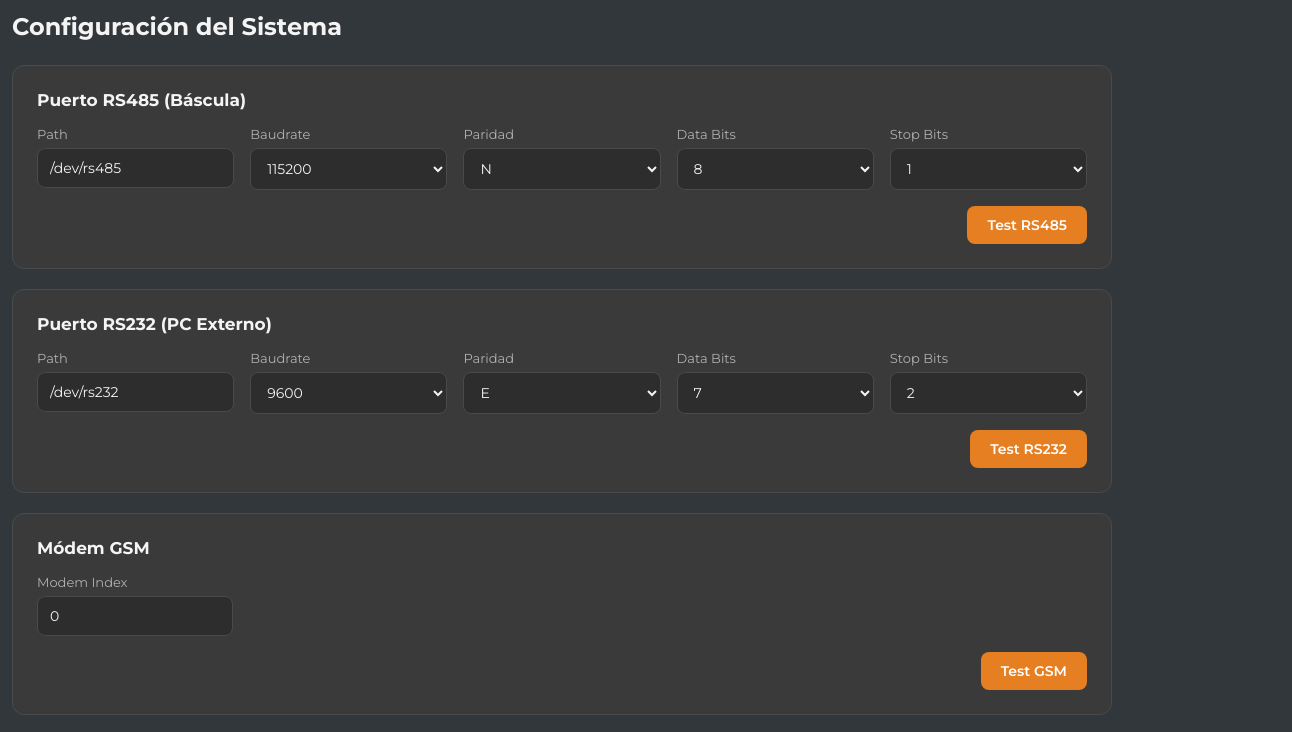
AdminConfig › test de puerto (R4) › muestra mensaje de error si test devuelve status fail
The width and height of the screenshot is (1292, 732).
Click the button "Test RS485": (1027, 225) [968, 206, 1087, 244]
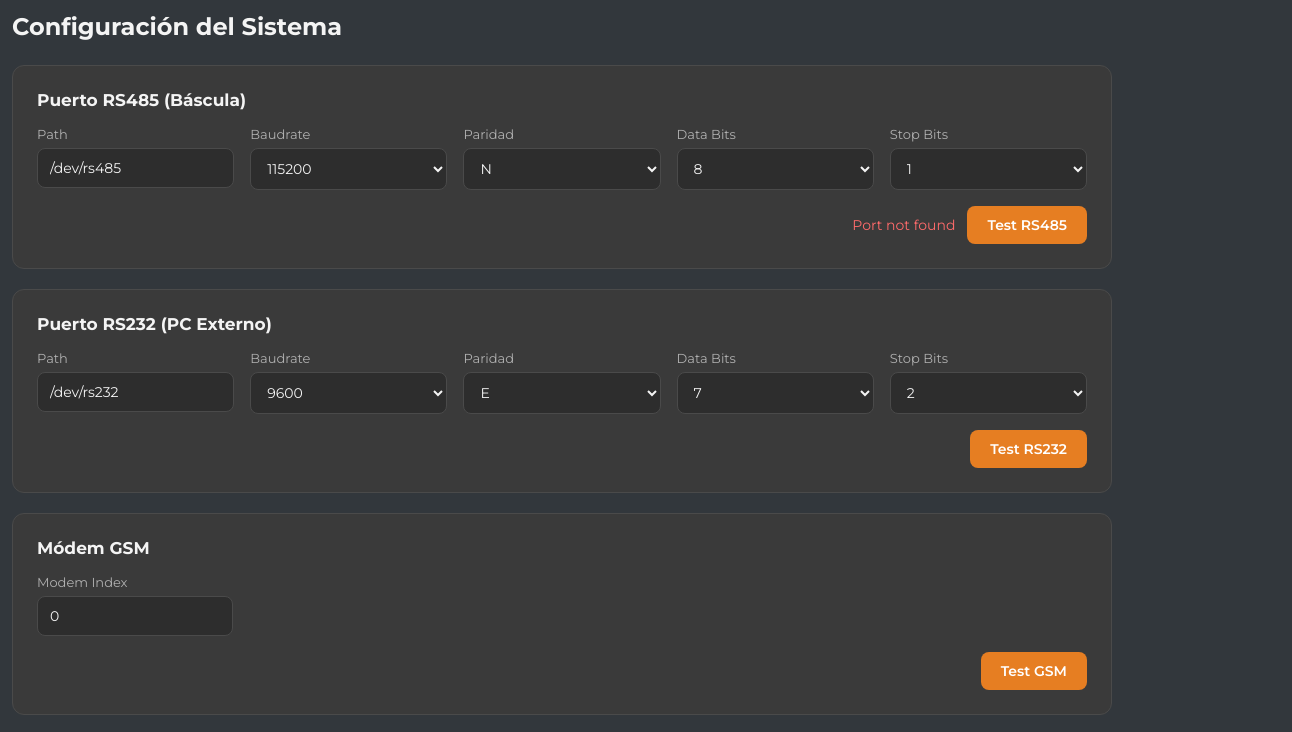
Check: the text "Port not found" is shown, box [852, 216, 956, 234]
